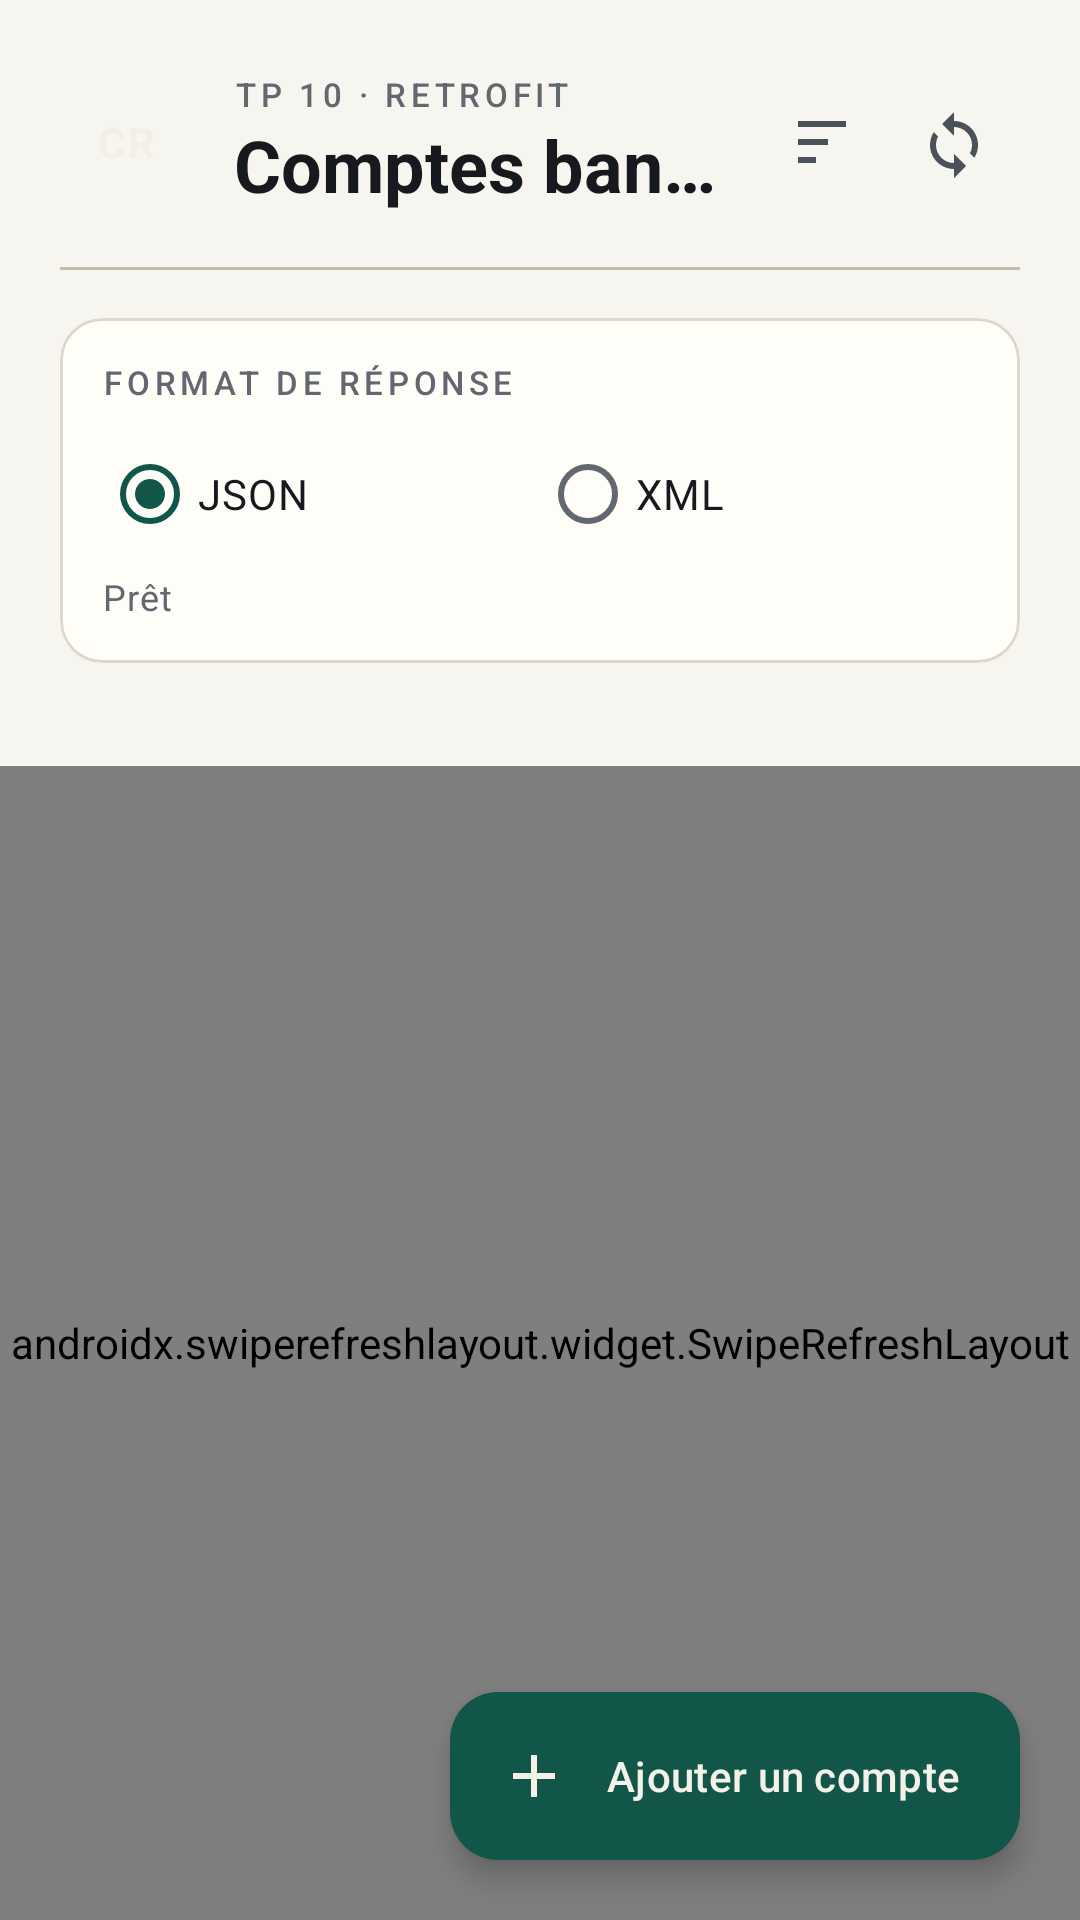

Icons on this 1080×1920 Android screen, each with the point to tap as [x,y]:
Réessayer: [954,145]
